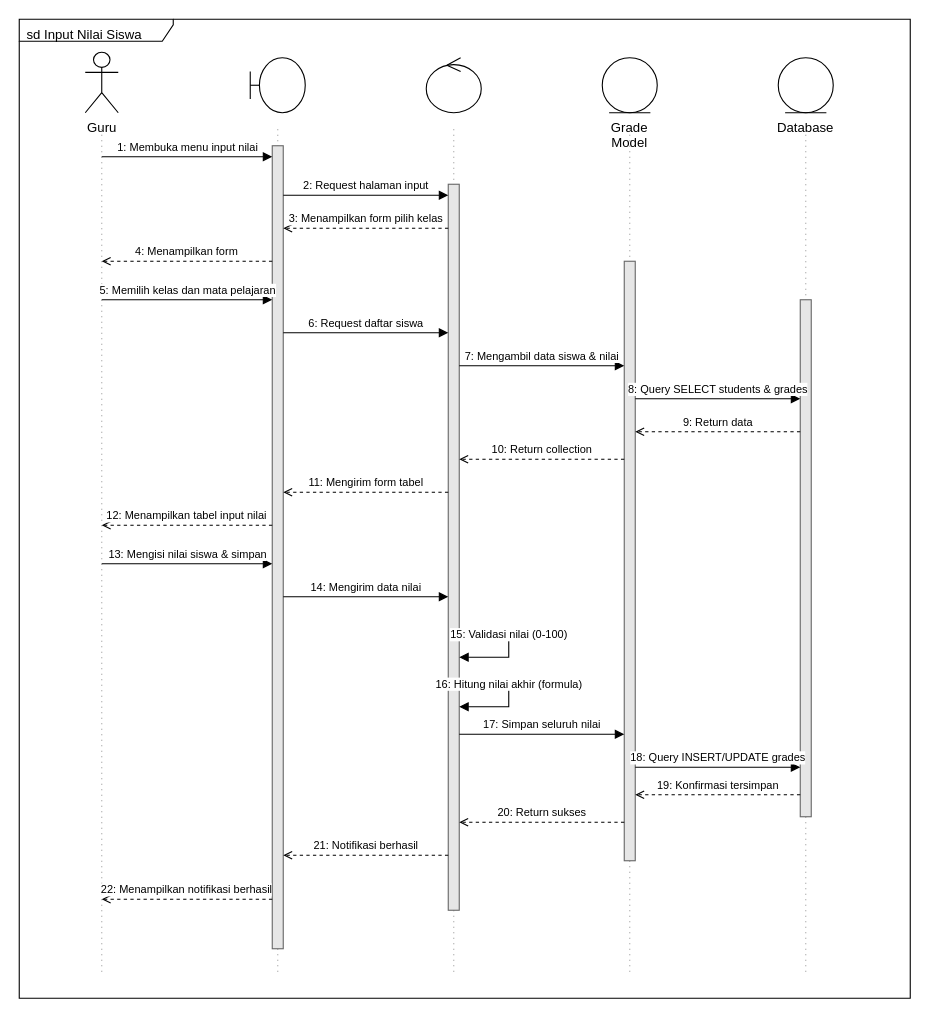
This 930x1018 diagram has some shape labels left out. Each missing label, with the centre of its shape:
GradeController: (453,85)
Halaman Nilai: (277,85)
